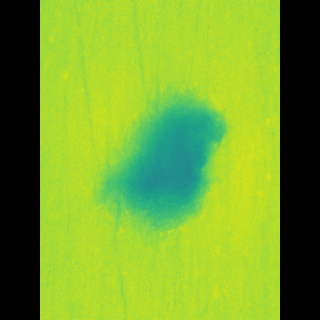Loch: (114, 88, 215, 235)
